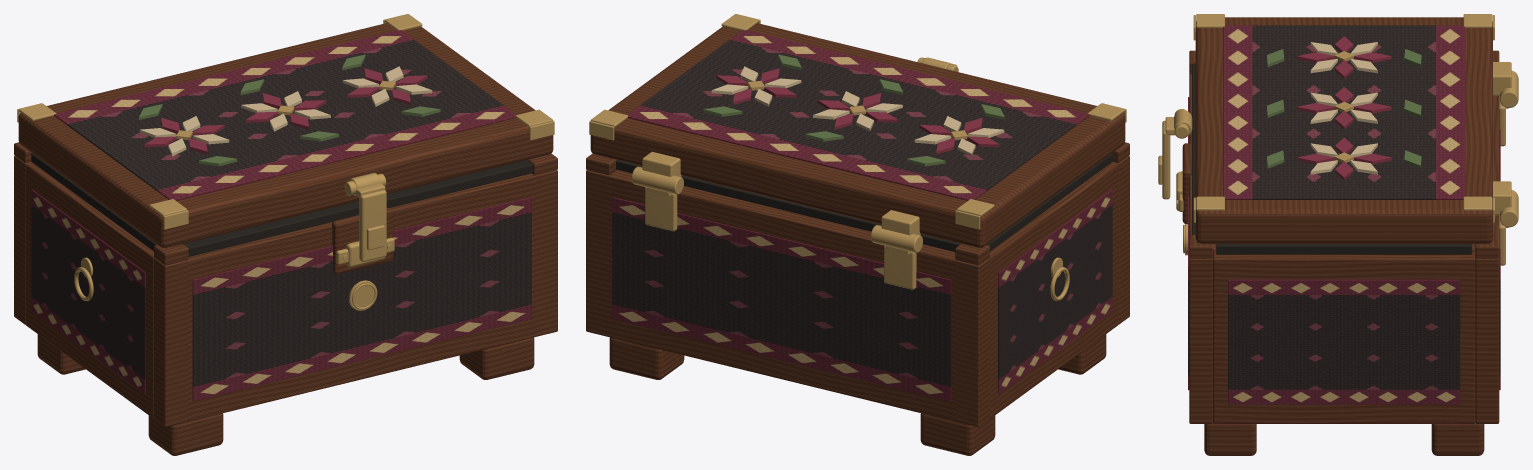
Rendered from moldova.glb.
The picture shows the model from 3 angles, left to right: view 1: azimuth 30°, elevation 25°; view 2: azimuth 150°, elevation 25°; view 3: azimuth 270°, elevation 25°; orthographic projection. The views are drawn at different scales.
Visible parts, largest first — view 1: Woven / wall, Woven / lid, Lid / polished slab, Walnut / wall, Woven / end, Walnut / end, Walnut / corner, Seam / long, Walnut / corner.002, Walnut / foot, Walnut / foot.002, Walnut / wall.001 (+7 smaller); view 2: Woven / wall.001, Woven / lid, Lid / polished slab, Walnut / wall.001, Woven / end, Walnut / end, Walnut / corner.001, Seam / long.001, Walnut / corner.003, Walnut / foot.001, Walnut / foot.003, Walnut / corner (+9 smaller); view 3: Woven / lid, Woven / end.001, Lid / polished slab, Walnut / end.001, Walnut / corner.003, Walnut / corner.002, Seam / side.001, Walnut / foot.003, Walnut / foot.002, Walnut / wall.001, Latch / lifting hasp, Seam / long (+14 smaller).
Part boxes in pixels (bbox=[...]): Woven / wall: bbox=[192, 197, 531, 401]; Woven / lid: bbox=[54, 30, 516, 200]; Lid / polished slab: bbox=[18, 23, 553, 247]; Walnut / wall: bbox=[154, 170, 557, 425]; Woven / end: bbox=[31, 189, 145, 393]; Walnut / end: bbox=[25, 162, 154, 418]; Walnut / corner: bbox=[154, 258, 187, 427]; Seam / long: bbox=[183, 160, 532, 256]; Walnut / corner.002: bbox=[535, 170, 557, 336]; Walnut / foot: bbox=[148, 413, 223, 455]; Walnut / foot.002: bbox=[459, 337, 534, 379]; Walnut / wall.001: bbox=[14, 156, 31, 324]; Woven / wall.001: bbox=[612, 197, 951, 401]; Woven / lid: bbox=[627, 30, 1089, 200]; Lid / polished slab: bbox=[590, 23, 1125, 247]; Walnut / wall.001: bbox=[586, 169, 989, 426]; Woven / end: bbox=[998, 189, 1112, 393]; Walnut / end: bbox=[989, 162, 1118, 418]; Walnut / corner.001: bbox=[956, 258, 989, 427]; Seam / long.001: bbox=[616, 160, 960, 251]; Walnut / corner.003: bbox=[586, 170, 608, 335]; Walnut / foot.001: bbox=[920, 413, 995, 455]; Walnut / foot.003: bbox=[609, 337, 684, 379]; Walnut / corner: bbox=[1112, 156, 1129, 324]; Woven / lid: bbox=[1223, 25, 1465, 199]; Woven / end.001: bbox=[1228, 279, 1460, 404]; Lid / polished slab: bbox=[1195, 17, 1492, 243]; Walnut / end.001: bbox=[1213, 251, 1475, 423]; Walnut / corner.003: bbox=[1475, 258, 1499, 423]; Walnut / corner.002: bbox=[1189, 258, 1212, 423]; Seam / side.001: bbox=[1216, 244, 1472, 254]; Walnut / foot.003: bbox=[1431, 423, 1484, 455]; Walnut / foot.002: bbox=[1204, 423, 1256, 455]; Walnut / wall.001: bbox=[1475, 96, 1499, 423]; Latch / lifting hasp: bbox=[1162, 120, 1170, 199]; Seam / long: bbox=[1192, 63, 1195, 234].
Bounding box in the file's own units: 3.8 × 2.31 × 2.88.
7 materials, 2 textured.
